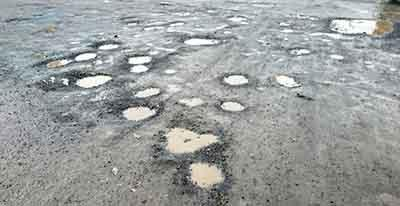pothole: (151, 73, 263, 195), (37, 36, 165, 126), (218, 19, 315, 114), (122, 1, 258, 45), (327, 14, 395, 38)
